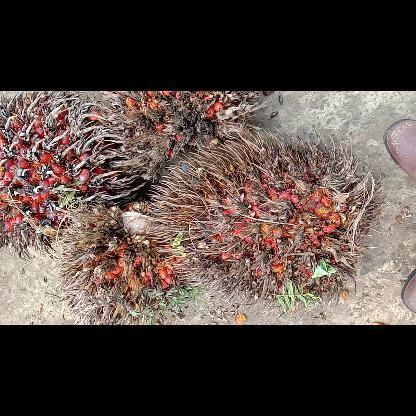Terlalu masak: (140, 123, 390, 315), (0, 91, 142, 256), (48, 198, 198, 324), (98, 90, 276, 182)
